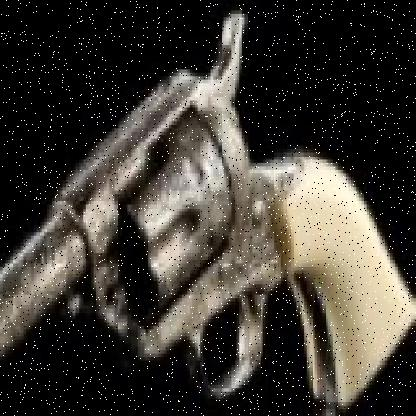pistol: (3, 10, 411, 398)
